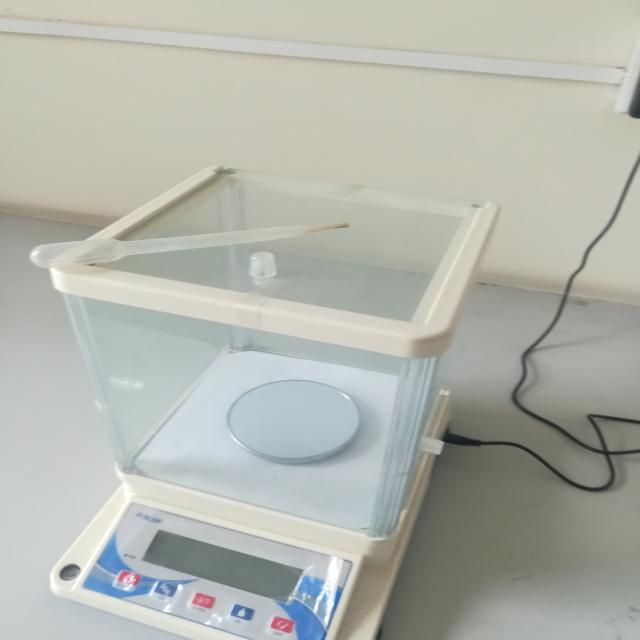Pipette: (5, 192, 385, 296)
